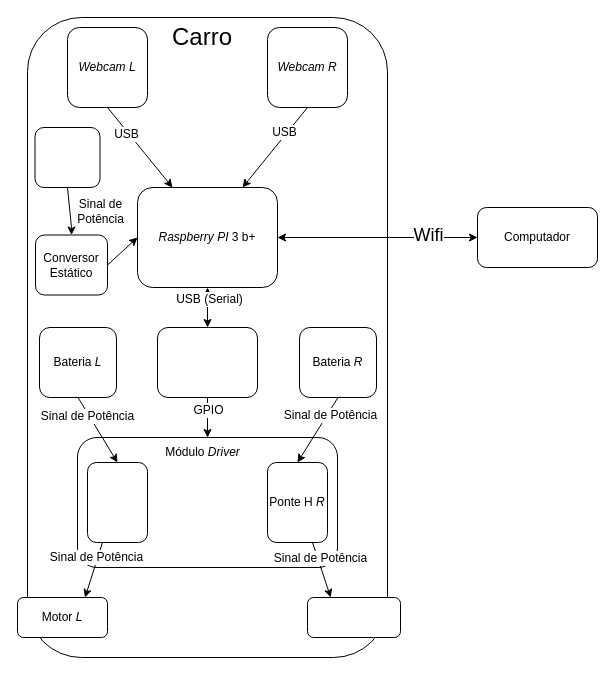
This 615x675 diagram has some shape labels left out. Here are the shapes that lost their labels. From the top down, the centre of each, then its label:
[67,157]: Bateria LiPo
[207,362]: Arduino Uno
[117,502]: Ponte H L
[353,617]: Motor R
